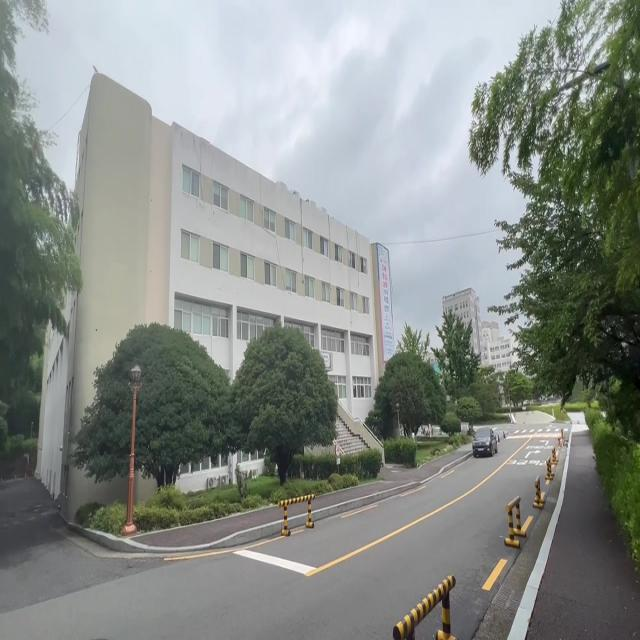building: (66, 70, 375, 325)
